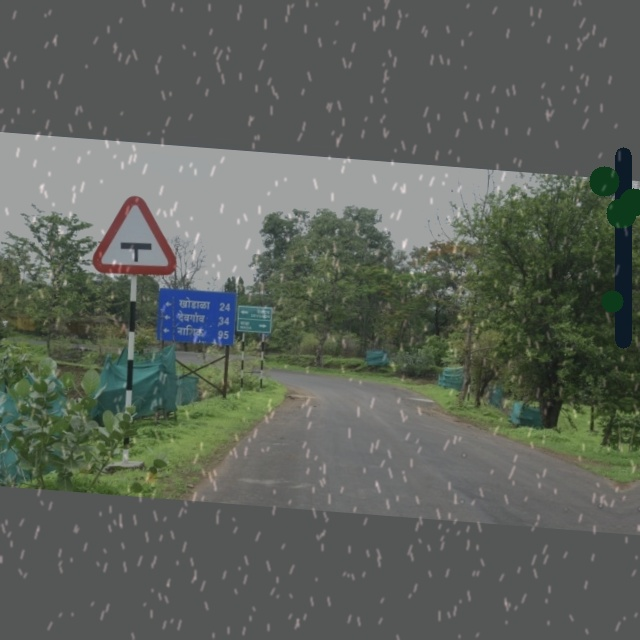T_Intersection: (84, 183, 191, 284)
